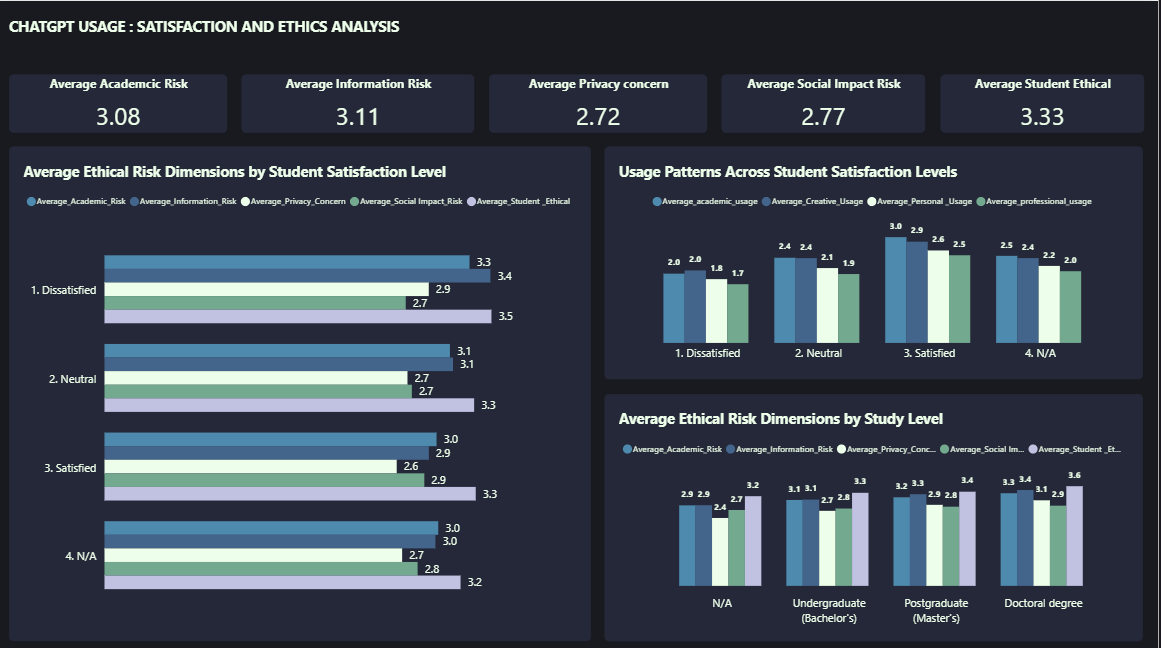

This screenshot's page, from the dashboard's own definition file:
{"tool":"powerbi","page":{"name":"Satisfaction and Ethic","canvas":[1280,720],"ordinal":2},"visuals":[{"type":"card","title":"Average Social Impact Risk","fields":{"Values":["df_ethic.Average_Social Impact_Risk"]},"box":[800,80,224,64],"z":0},{"type":"clusteredColumnChart","title":"Usage Patterns Across Student Satisfaction Levels","fields":{"Category":["df_satisfaction.Satisfaction_Level"],"Y":["df_usage.Average_academic_usage","df_usage.Average_Creative_Usage","df_usage.Average_Personal _Usage","df_usage.Average_professional_usage"]},"box":[672,160,592,256],"z":1000},{"type":"clusteredBarChart","title":"Average Ethical Risk Dimensions by Student Satisfaction Level","fields":{"Category":["df_satisfaction.Satisfaction_Level"],"Y":["df_ethic.Average_Academic_Risk","df_ethic.Average_Information_Risk","df_ethic.Average_Privacy_Concern","df_ethic.Average_Social Impact_Risk","df_ethic.Average_Student _Ethical"]},"box":[16,160,640,544],"z":2000},{"type":"card","title":"Average Student Ethical","fields":{"Values":["df_ethic.Average_Student _Ethical"]},"box":[1040,80,224,64],"z":3000},{"type":"clusteredColumnChart","title":"Average Ethical Risk Dimensions by Study Level","fields":{"Category":["df_socio.Study_Level"],"Y":["df_ethic.Average_Academic_Risk","df_ethic.Average_Information_Risk","df_ethic.Average_Privacy_Concern","df_ethic.Average_Social Impact_Risk","df_ethic.Average_Student _Ethical"]},"box":[672,432,592,272],"z":4000},{"type":"card","title":"Average Privacy concern","fields":{"Values":["df_ethic.Average_Privacy_Concern"]},"box":[544,80,240,64],"z":5000},{"type":"card","title":"Average Information Risk","fields":{"Values":["df_ethic.Average_Information_Risk"]},"box":[272,80,256,64],"z":6000},{"type":"card","title":"Average Academcic Risk","fields":{"Values":["df_ethic.Average_Academic_Risk"]},"box":[16,80,240,64],"z":7000},{"type":"textbox","box":[16,16,768,48],"z":13000}]}

Visuals, with their boxes in screenshot pixels (x1, y1, x2, y2), scaled from the page's 1280x720 canvas onto the 1161x648 screenshot:
"Average Social Impact Risk" card: [726,72,929,130]
"Usage Patterns Across Student Satisfaction Levels" clusteredColumnChart: [610,144,1146,374]
"Average Ethical Risk Dimensions by Student Satisfaction Level" clusteredBarChart: [15,144,595,634]
"Average Student Ethical" card: [943,72,1146,130]
"Average Ethical Risk Dimensions by Study Level" clusteredColumnChart: [610,389,1146,634]
"Average Privacy concern" card: [493,72,711,130]
"Average Information Risk" card: [247,72,479,130]
"Average Academcic Risk" card: [15,72,232,130]
textbox: [15,14,711,58]
